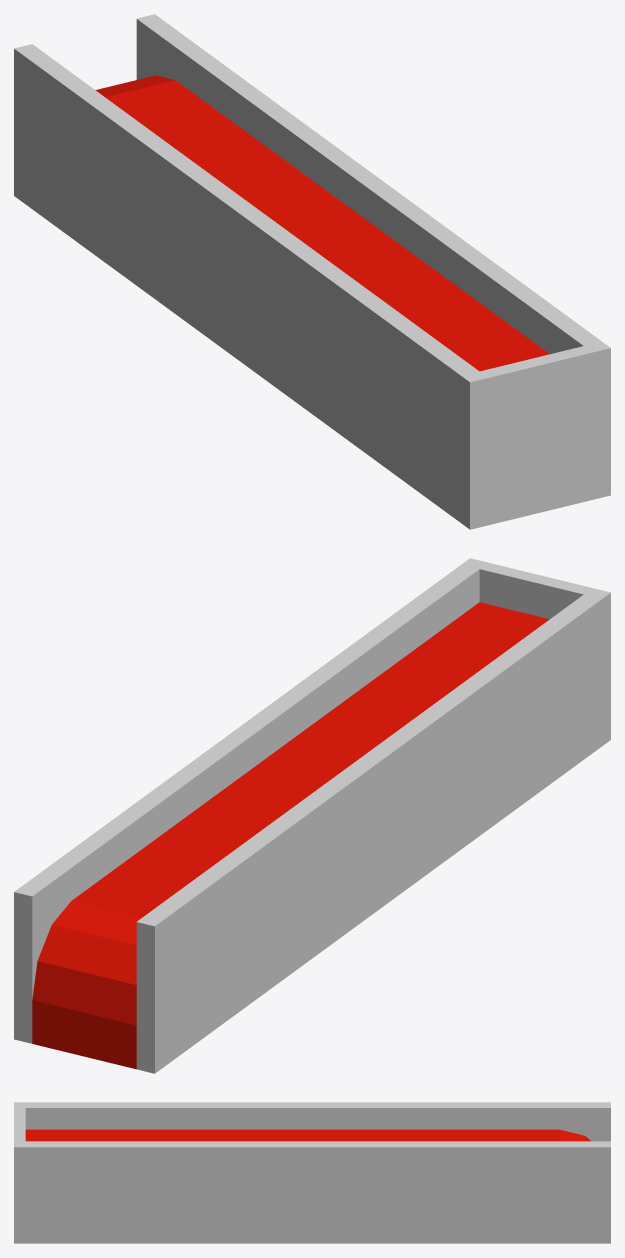
Rendered from SM_PipelineStraight.fbx.
3 renders of one model, top to bottom at view 1: azimuth 30°, elevation 25°; view 2: azimuth 150°, elevation 25°; view 3: azimuth 270°, elevation 25°, orthographic. The views are drawn at different scales.
Parts seen in each view (by area): view 1: PipelineStraight; view 2: PipelineStraight; view 3: PipelineStraight.
Part boxes in pixels (box(x1,y1,x2,y2)): PipelineStraight: box(14, 14, 610, 529); PipelineStraight: box(14, 558, 610, 1073); PipelineStraight: box(14, 1102, 610, 1243).
Bounding box in the file's own units: 200 × 200 × 1122.
